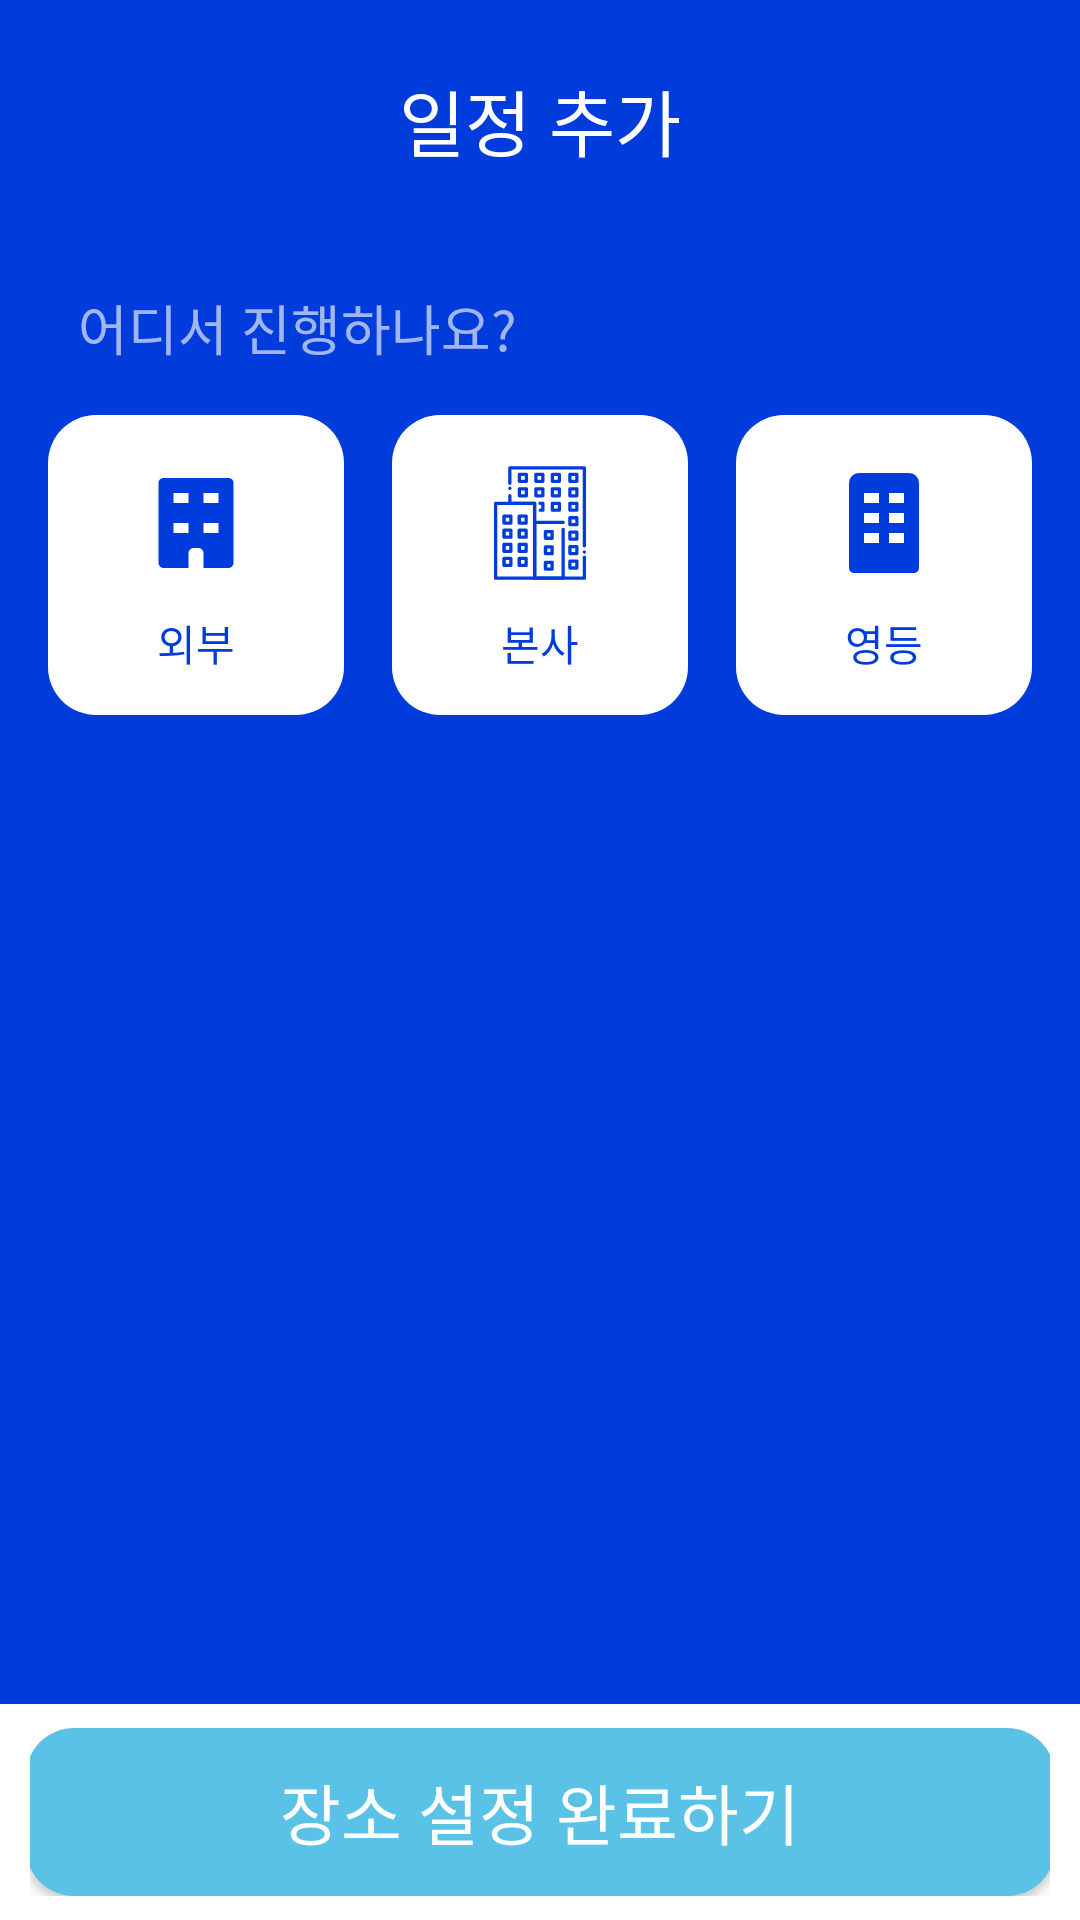

Screen size 1080 × 1920. Icon name, then its box in pixels as bbox(x1, y1, x2, y2):
building: bbox(494, 466, 586, 580)
building medium: bbox(849, 473, 919, 573)
building outside: bbox(158, 478, 234, 568)
